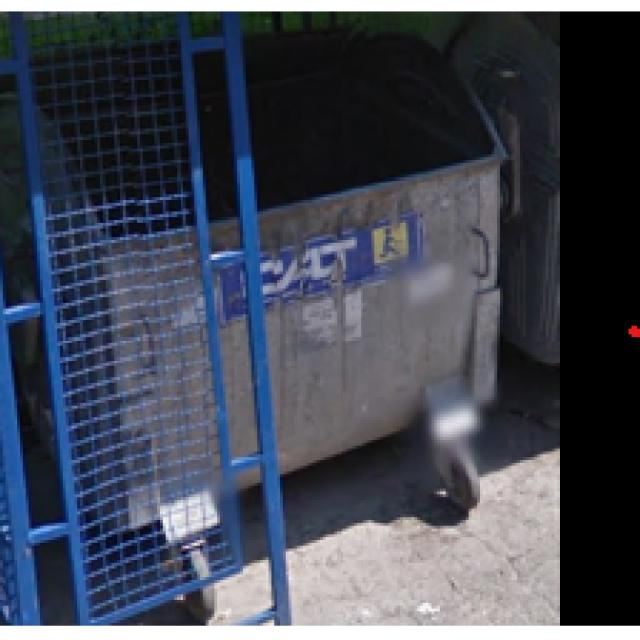general wastetrash bin: (25, 37, 503, 586)
